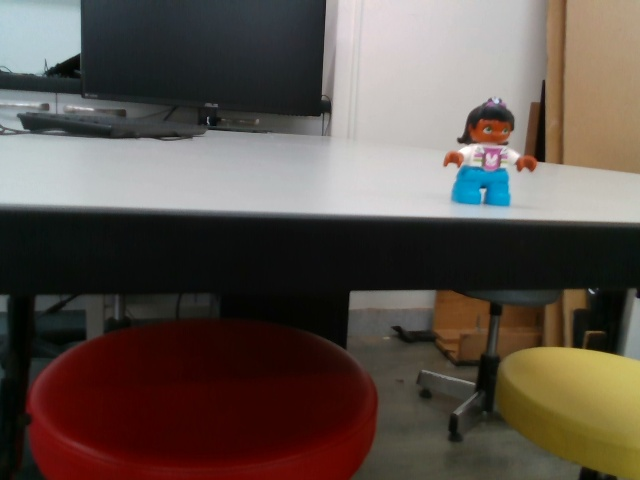people: (442, 95, 540, 207)
